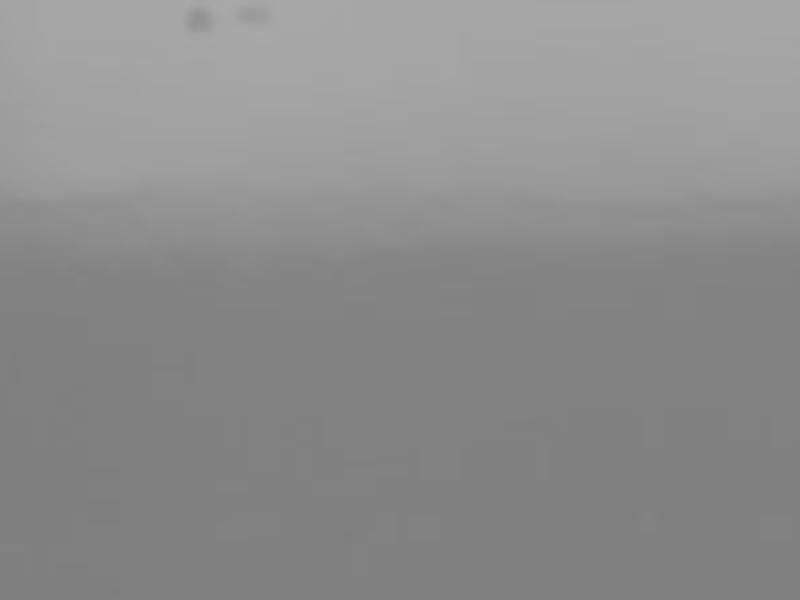defect: (233, 3, 272, 30), (183, 9, 213, 35)
